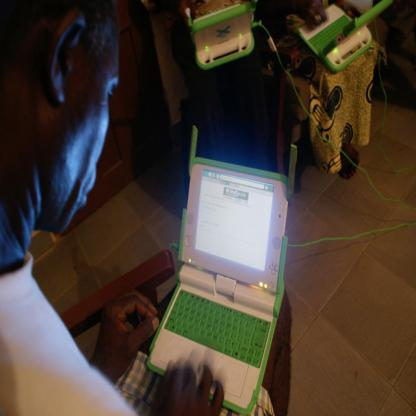board: (147, 124, 297, 414), (295, 0, 394, 71), (188, 3, 254, 68)
